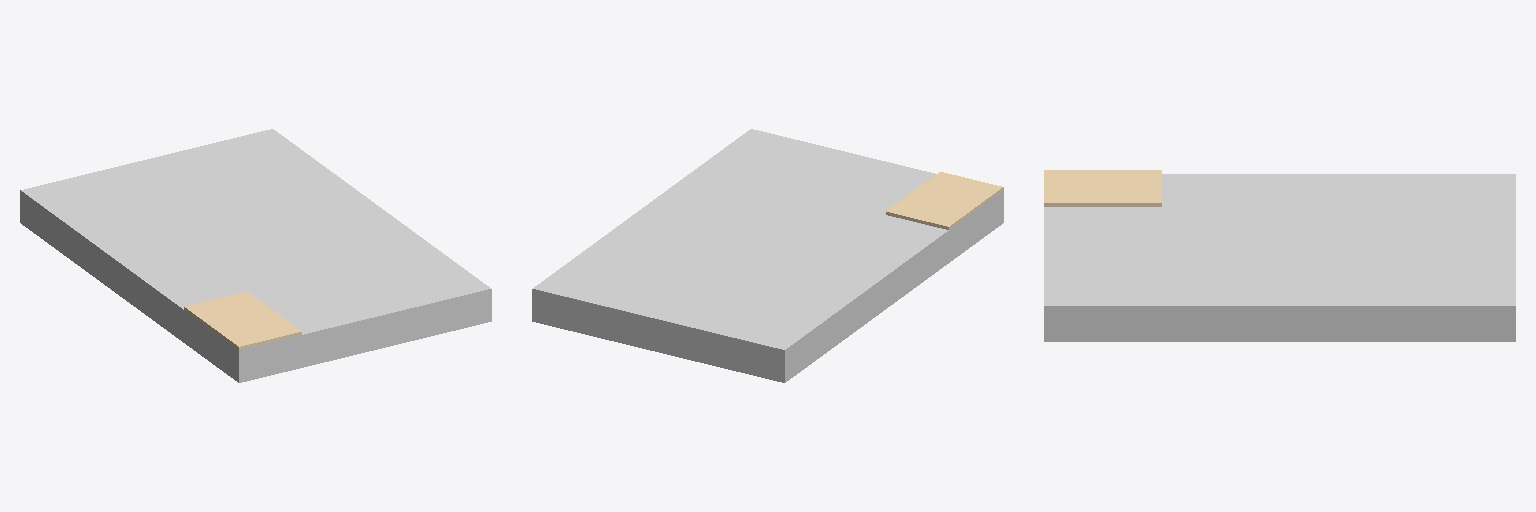
URDF robot description (table.urdf):
<?xml version="1.0" ?>  
<robot name="table.urdf">  
  <material name="White">  
    <color rgba="0.9 0.9 0.9 1.0"/>  
  </material>  
  <material name="WoodBrown">  
    <color rgba="1.0 0.9 0.75 1.0"/>  
  </material>  

  <!-- 底板（作为根链接） -->  
  <link name="base_link">  
    <contact>  
      <lateral_friction value="1.0"/>  
    </contact>  
    <inertial>  
      <origin rpy="0 0 0" xyz="0 0 0"/>  
      <mass value=".0"/>  
      <inertia ixx="1" ixy="0" ixz="0" iyy="1" iyz="0" izz="1"/>  
    </inertial>  
    <visual>  
      <origin rpy="0 0 0" xyz="0 0 -0.12"/>  
      <geometry>  
        <box size="1.6 2.4 0.2"/>  
      </geometry>  
      <material name="White"/>  
    </visual>  
    <collision>  
      <origin rpy="0 0 0" xyz="0 0 -0.12"/>  
      <geometry>  
        <box size="1.6 2.4 0.2"/>  
      </geometry>  
    </collision>  

  </link>  

  <!-- 上面的小板 -->  
  <link name="top_plate">  
    <inertial>  
      <origin rpy="0 0 0" xyz="0 0 0"/>  
      <mass value=".0"/>  
      <inertia ixx="1" ixy="0" ixz="0" iyy="1" iyz="0" izz="1"/>  
    </inertial>  
    <visual>  
      <origin rpy="0 0 0" xyz="-0.6 -0.9 -0.01"/>  
      <geometry>  
        <box size="0.4 0.6 0.02"/>  
      </geometry>  
      <material name="WoodBrown"/>  
    </visual>  
    <collision>  
      <origin rpy="0 0 0" xyz="-0.6 -0.9 -0.01"/>  
      <geometry>  
        <box size="0.4 0.6 0.02"/>  
      </geometry>  
    </collision>  
  </link>  

  <!-- 连接底板和上板 -->  
  <joint name="base_to_top" type="fixed">  
    <parent link="base_link"/>  
    <child link="top_plate"/>  
    <origin xyz="0 0 0"/>  
  </joint>  

</robot>

--- Render facts (derived) ---
Views: 3 orthographic renders of the robot side by side, from view 1: azimuth 30°, elevation 25°; view 2: azimuth 150°, elevation 25°; view 3: azimuth 270°, elevation 25°.
Model table.urdf with 2 links and 1 joints (1 fixed), rooted at base_link, posed all joints at 0.
Visible links, largest first — view 1: base_link, top_plate; view 2: base_link, top_plate; view 3: base_link, top_plate.
Link boxes in pixels (box(x1,y1,x2,y2)): base_link: box(20, 129, 491, 382); top_plate: box(184, 292, 301, 349); base_link: box(532, 129, 1003, 382); top_plate: box(886, 172, 1003, 229); base_link: box(1044, 174, 1515, 341); top_plate: box(1044, 170, 1161, 206).
Size in the robot's own frame: 1.6 by 2.4 by 0.22 metres.
Geometry: primitives only (box / cylinder / sphere), no mesh files.
